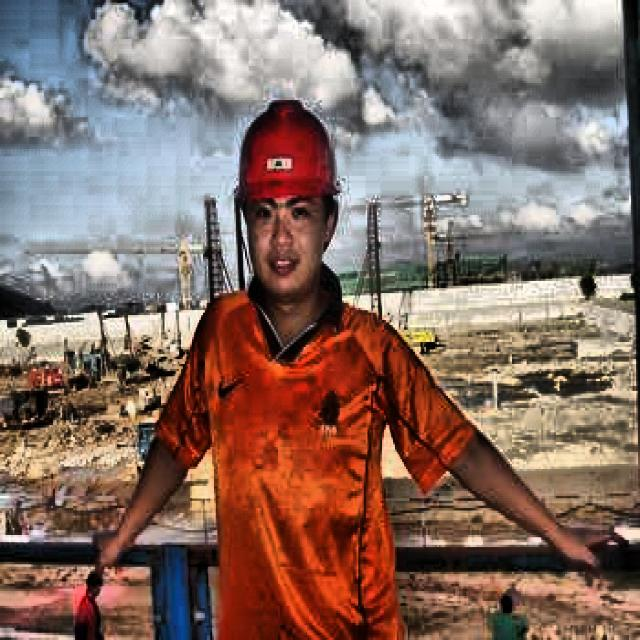helmet: (219, 76, 353, 310)
